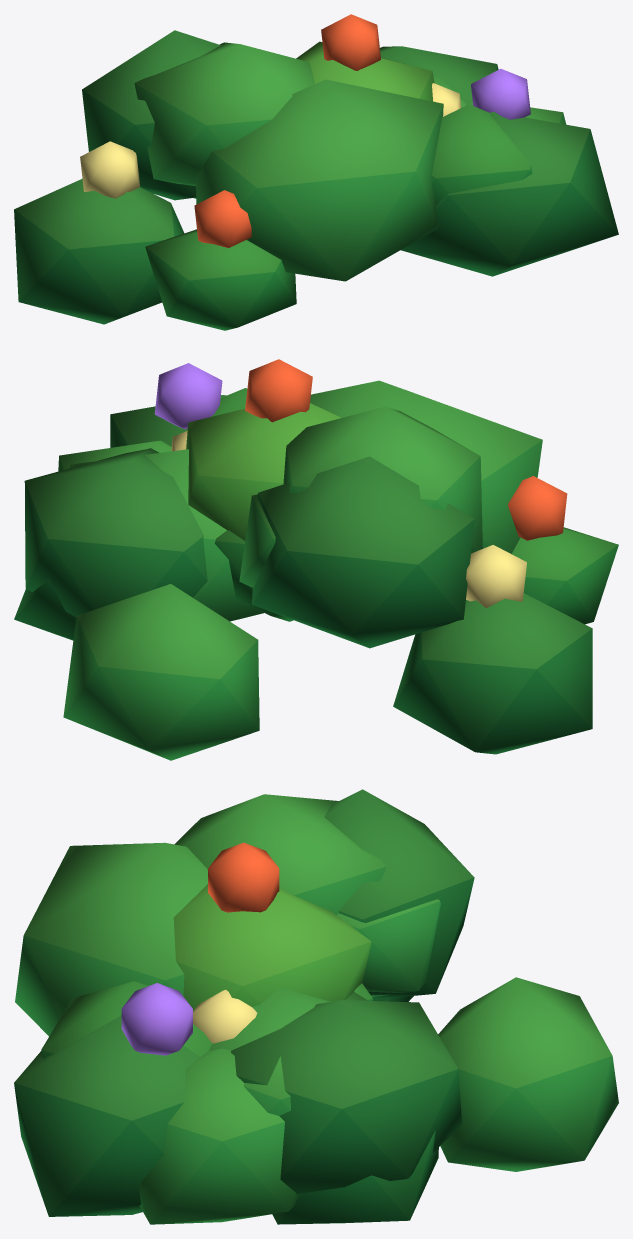
File: bush-2.glb
3 views of the same model, one above another, from view 1: azimuth 30°, elevation 25°; view 2: azimuth 150°, elevation 25°; view 3: azimuth 270°, elevation 25° (orthographic). The views are drawn at different scales.
Visible parts, largest first — view 1: bush-2; view 2: bush-2; view 3: bush-2.
Part boxes in pixels (x1,y1,x2,y2): bush-2: [14, 14, 618, 330]; bush-2: [14, 359, 618, 760]; bush-2: [14, 789, 618, 1224].
Size of the model in its own units: 1.92 by 0.9983 by 1.59.
